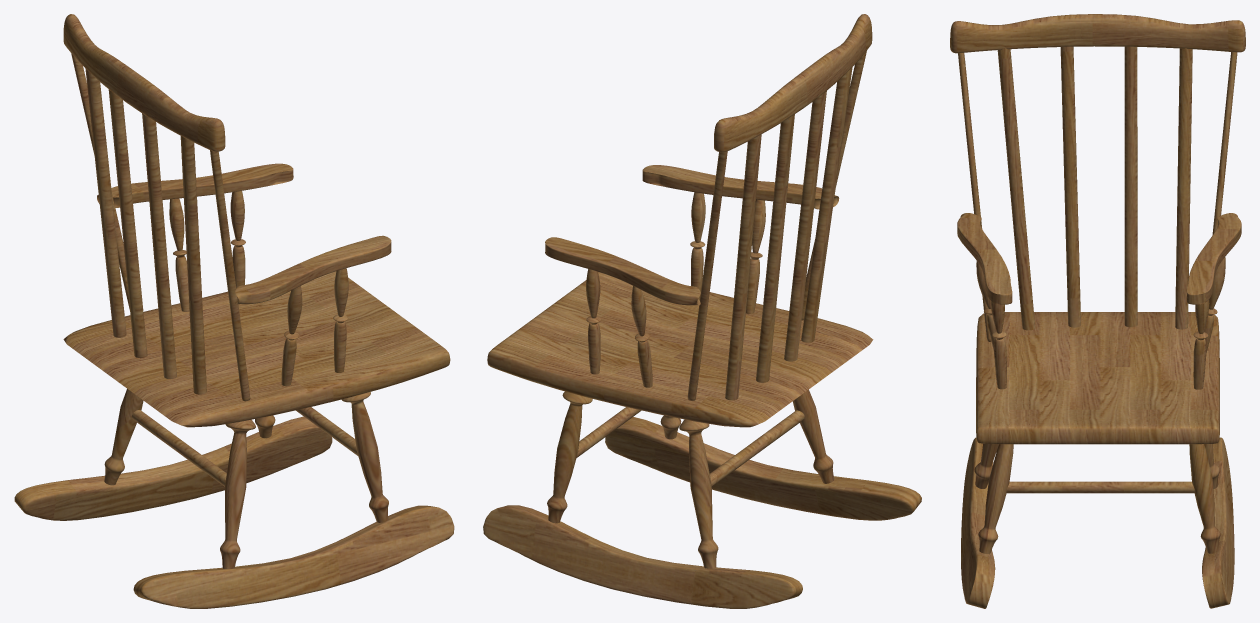
File: rocking_chair.fbx
The picture shows the model from 3 angles, left to right: view 1: azimuth 30°, elevation 25°; view 2: azimuth 150°, elevation 25°; view 3: azimuth 270°, elevation 25°; orthographic projection. The views are drawn at different scales.
Visible parts, largest first — view 1: Rocking_Chair; view 2: Rocking_Chair; view 3: Rocking_Chair.
Boxes of the visible parts, <box> form: Rocking_Chair: <box>14,14,454,608</box>; Rocking_Chair: <box>483,14,921,608</box>; Rocking_Chair: <box>950,14,1245,608</box>.
Size of the model in its own units: 80.22 by 124 by 67.6.
Materials: 1 (1 with a texture image).
